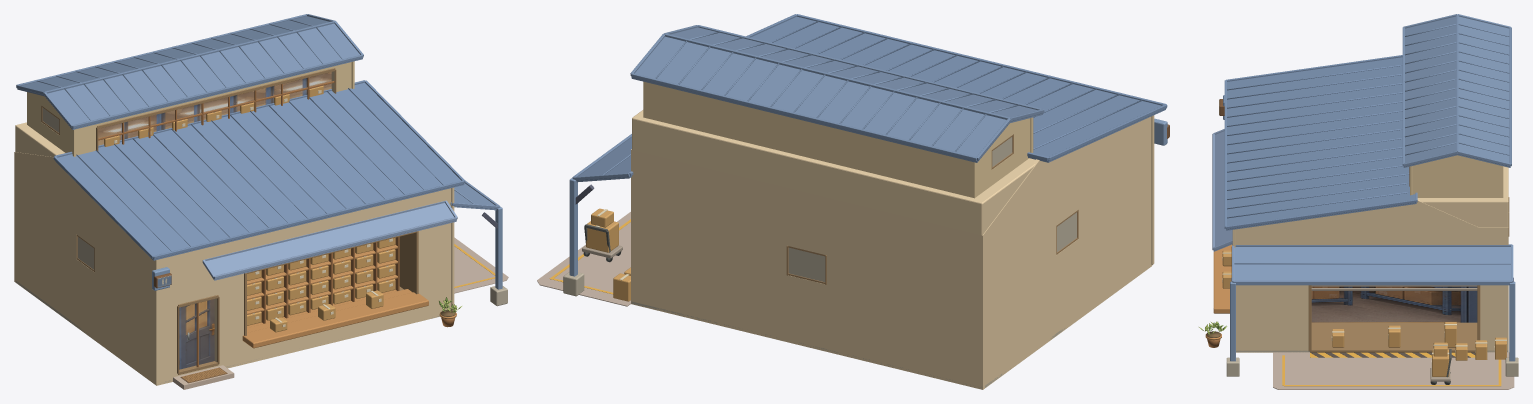
3 views of the same model, side by side, from view 1: azimuth 30°, elevation 25°; view 2: azimuth 150°, elevation 25°; view 3: azimuth 270°, elevation 25° (orthographic). The views are drawn at different scales.
Visible parts, largest first — view 1: SM_19_02_曲面屋顶, SM_19_01_建筑墙体, SM_19_06_景观设施, SM_19_04_门窗楼梯, SM_19_06_院内及专用铺地, SM_19_03_木构回廊; view 2: SM_19_01_建筑墙体, SM_19_02_曲面屋顶, SM_19_06_院内及专用铺地, SM_19_04_门窗楼梯, SM_19_03_木构回廊, SM_19_06_景观设施; view 3: SM_19_02_曲面屋顶, SM_19_01_建筑墙体, SM_19_04_门窗楼梯, SM_19_06_院内及专用铺地, SM_19_06_景观设施, SM_19_03_木构回廊, SM_19_05_景观植物.
Boxes of the visible parts, x1,y1,x2,y2 form: SM_19_02_曲面屋顶: (16, 14, 499, 280); SM_19_01_建筑墙体: (14, 62, 451, 385); SM_19_06_景观设施: (104, 85, 428, 348); SM_19_04_门窗楼梯: (41, 68, 418, 374); SM_19_06_院内及专用铺地: (173, 237, 508, 389); SM_19_03_木构回廊: (72, 61, 507, 384); SM_19_01_建筑墙体: (631, 81, 1152, 389); SM_19_02_曲面屋顶: (572, 14, 1167, 182); SM_19_06_院内及专用铺地: (537, 212, 630, 306); SM_19_04_门窗楼梯: (786, 118, 1169, 284); SM_19_03_木构回廊: (563, 115, 1154, 296); SM_19_06_景观设施: (582, 208, 630, 301); SM_19_02_曲面屋顶: (1212, 14, 1513, 285); SM_19_01_建筑墙体: (1235, 155, 1508, 352); SM_19_04_门窗楼梯: (1219, 95, 1509, 352); SM_19_06_院内及专用铺地: (1273, 352, 1514, 389); SM_19_06_景观设施: (1213, 244, 1506, 384); SM_19_03_木构回廊: (1226, 166, 1518, 376); SM_19_05_景观植物: (1199, 321, 1227, 347).
Bounding box in the file's own units: 11.71 × 6.08 × 8.79.
Materials: 35 (2 with a texture image).
